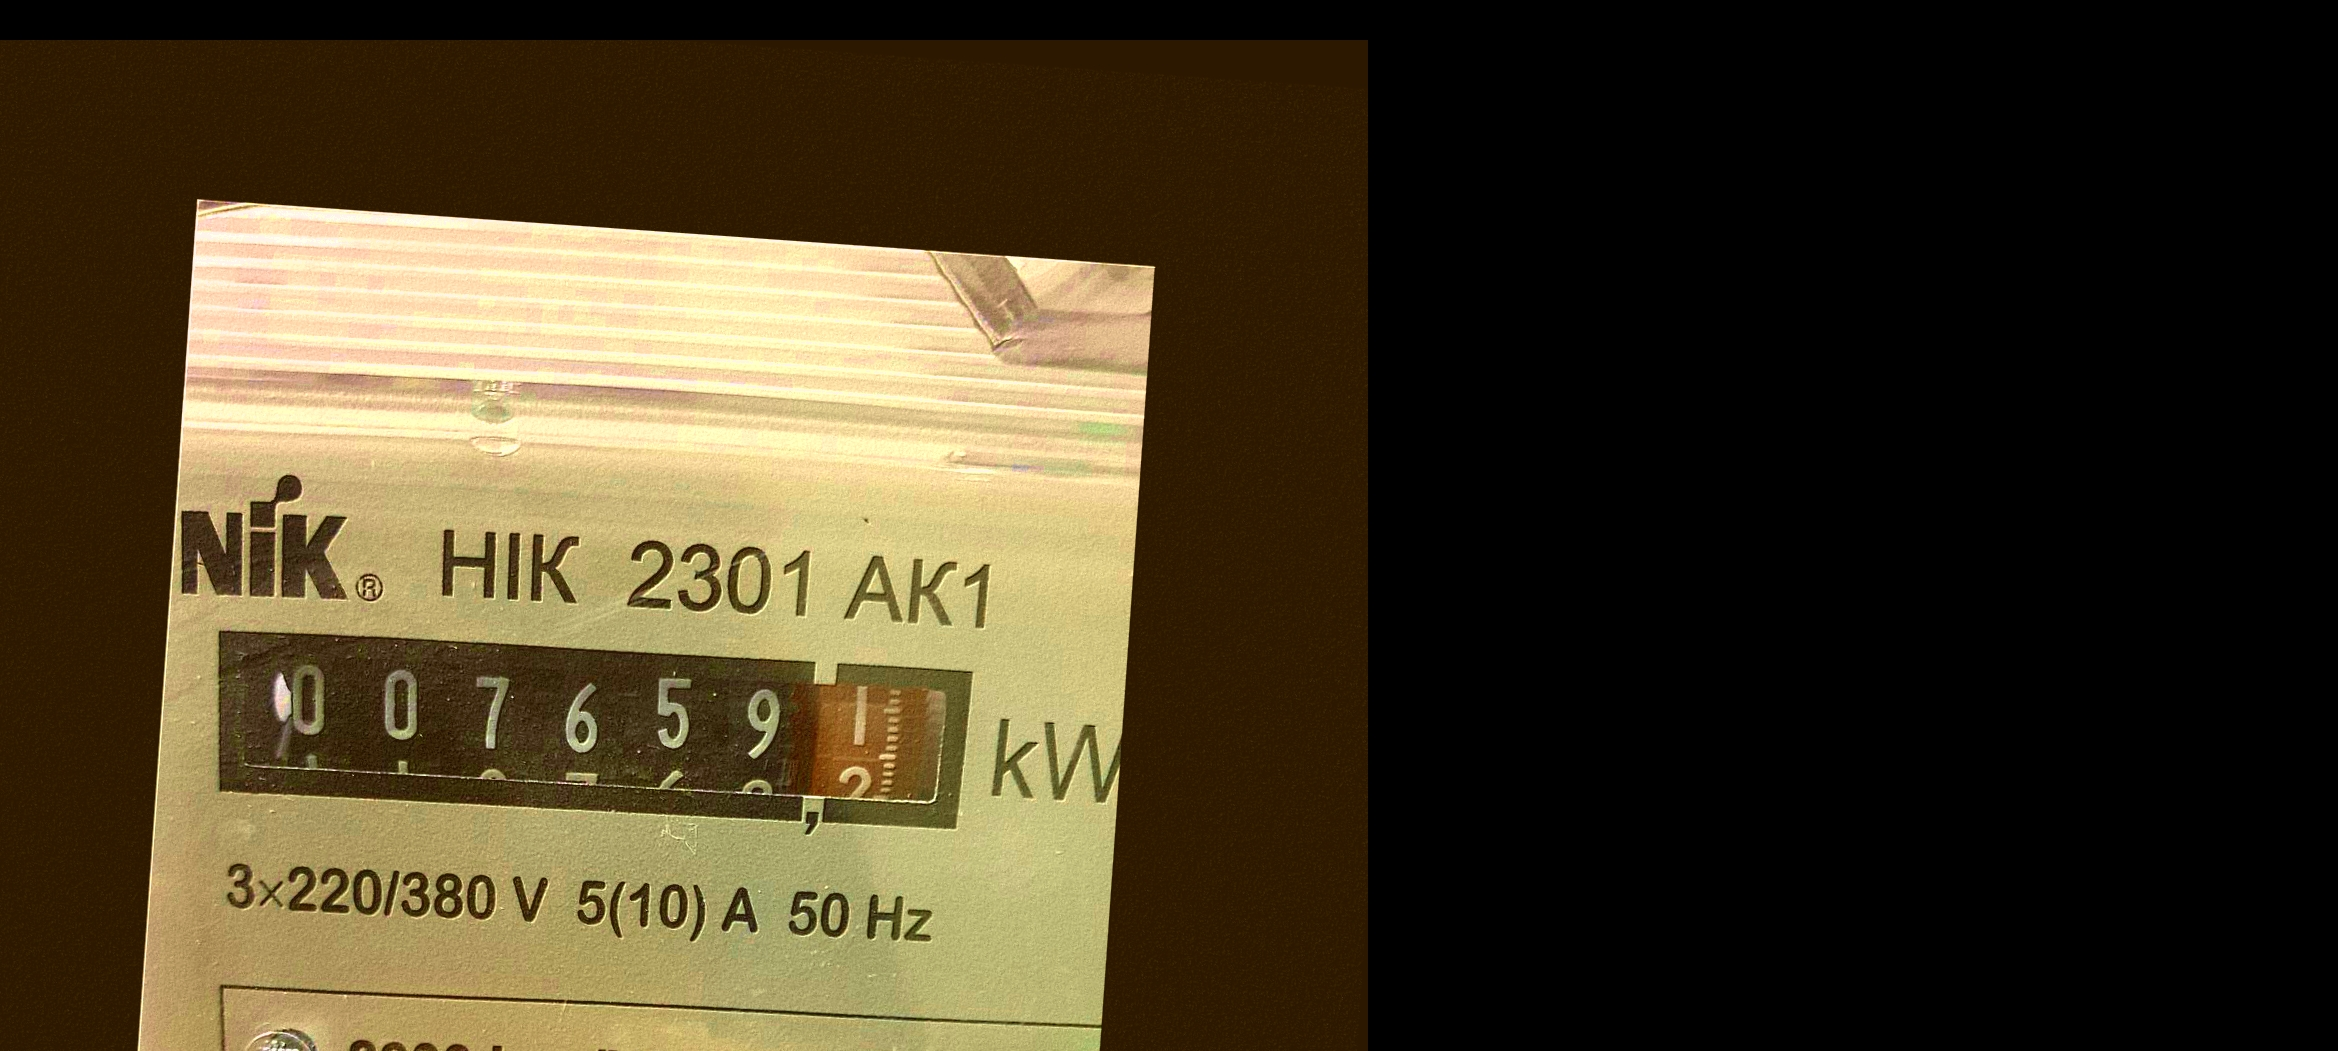0: (368, 659, 429, 748), (280, 654, 335, 747)
1: (842, 678, 883, 756)
5: (647, 671, 698, 756)
6: (553, 672, 610, 759)
7: (467, 669, 514, 757)
9: (740, 680, 787, 771)
screen: (186, 596, 995, 866)
